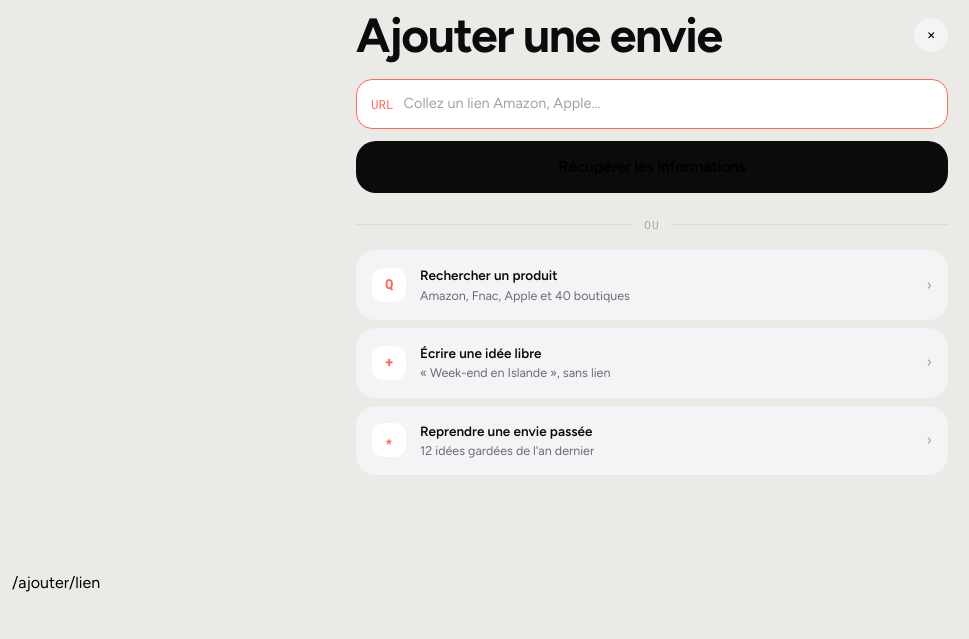
Scenario: analysing a link › refuses something that is not a link, without a round trip
In the field named "Lien du produit": (668, 104) [404,93,933,115], type "pas une url"
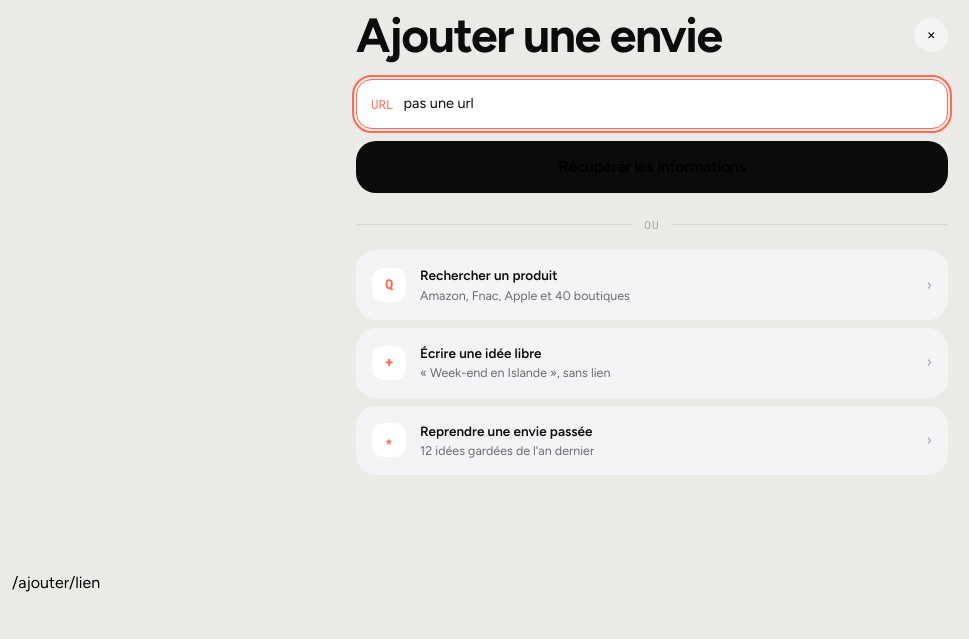
Click the button "Récupérer les informations": click(652, 167) [356,141,948,193]
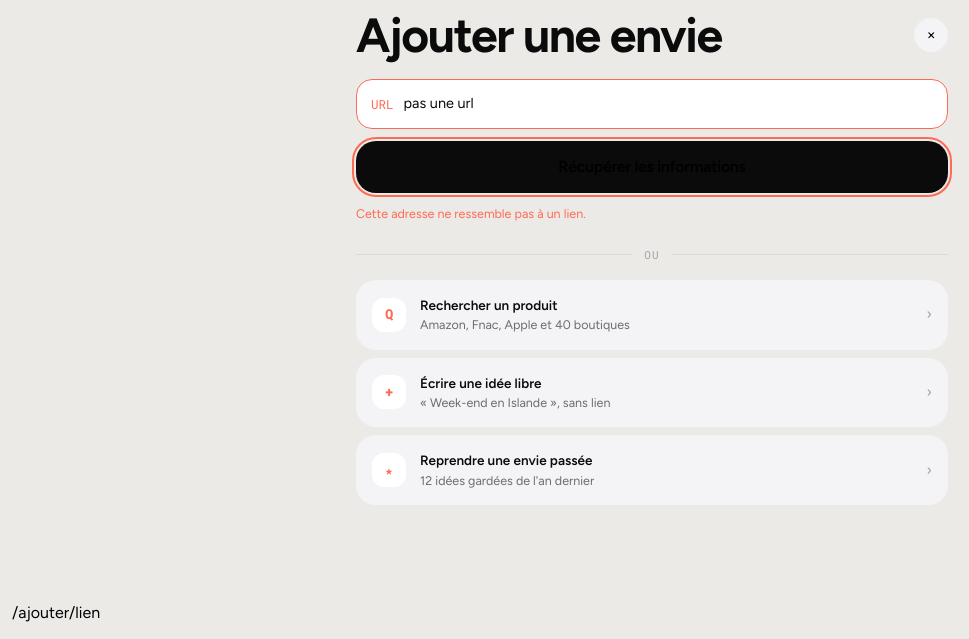
Expected: the text with test id "path" reads "/ajouter/lien", [12,603,100,622]
Now the message shows "ne ressemble pas à un lien", box [356,206,586,221]
